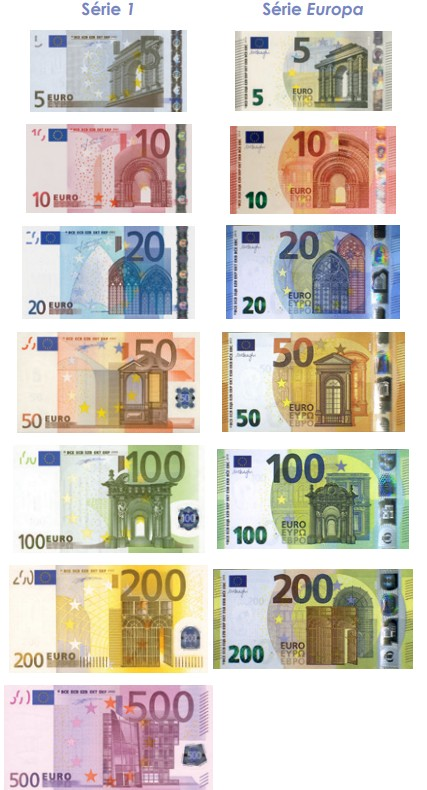Nota de 100€: (10, 442, 203, 556), (214, 446, 413, 553)
Nota de 10€: (20, 119, 196, 217), (227, 121, 401, 217)
Nota de 200€: (7, 563, 210, 674), (213, 568, 417, 672)
Nota de 20€: (225, 222, 405, 322), (19, 224, 199, 321)
Nota de 500€: (2, 682, 215, 790)
Nota de 50€: (14, 327, 205, 437), (220, 329, 410, 436)
Nota de 5€: (24, 26, 191, 114), (231, 27, 397, 114)
